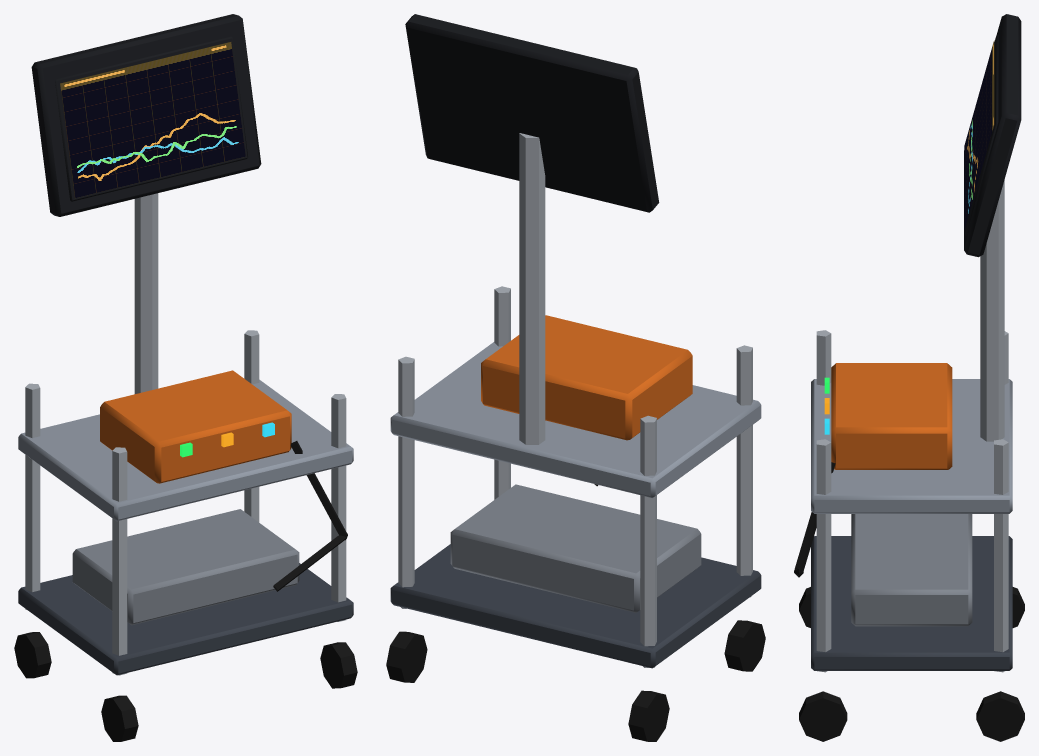
File: engtool_diagnostic_cart.glb
3 renders of one model, left to right at view 1: azimuth 30°, elevation 25°; view 2: azimuth 150°, elevation 25°; view 3: azimuth 270°, elevation 25°, orthographic. The views are drawn at different scales.
Visible parts, largest first — view 1: engtool_diagnostic_cart; view 2: engtool_diagnostic_cart; view 3: engtool_diagnostic_cart.
Boxes of the visible parts, x1,y1,x2,y2 form: engtool_diagnostic_cart: (14,14,357,741); engtool_diagnostic_cart: (386,14,765,741); engtool_diagnostic_cart: (794,14,1024,741).
Size of the model in its own units: 0.7 by 1.7 by 0.572.
Materials: 11 (1 with a texture image).
